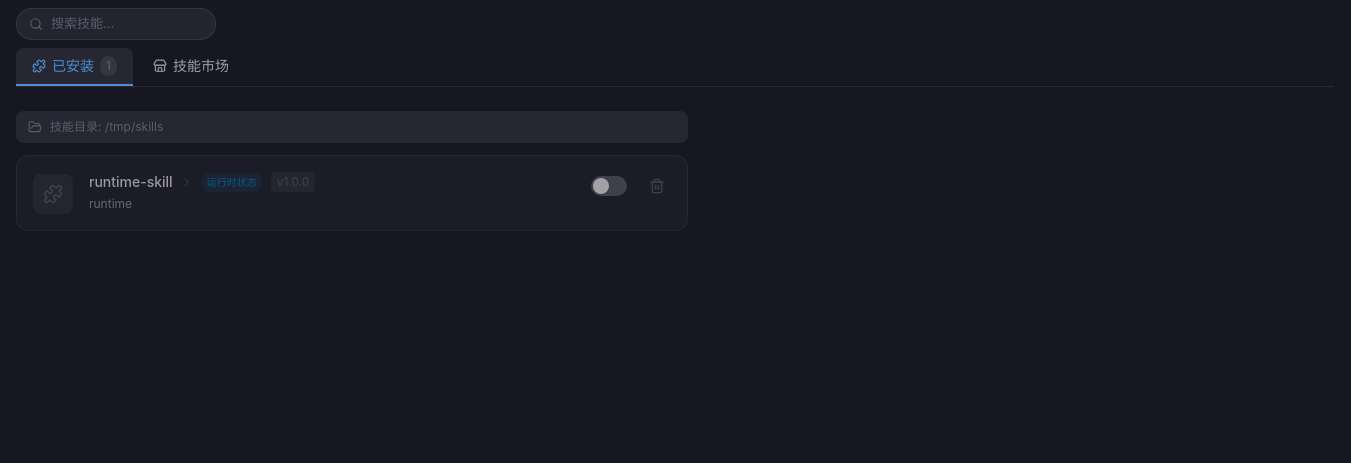
Test case: SkillsView › uses runtime state when backend exposes enabled status
Click the button "runtime-skill" at (131, 182), box x1=89 y1=172 x2=173 y2=192
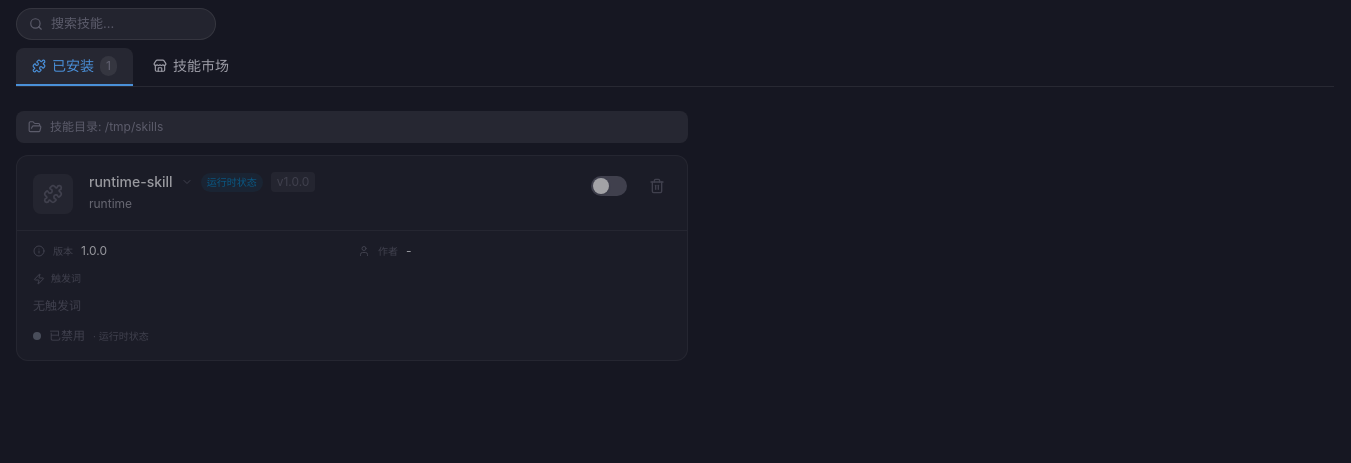
Check: the text "运行时状态" is shown, box x1=201 y1=172 x2=263 y2=192
Click the button named "启用技能" at (609, 186), box x1=591 y1=176 x2=627 y2=196
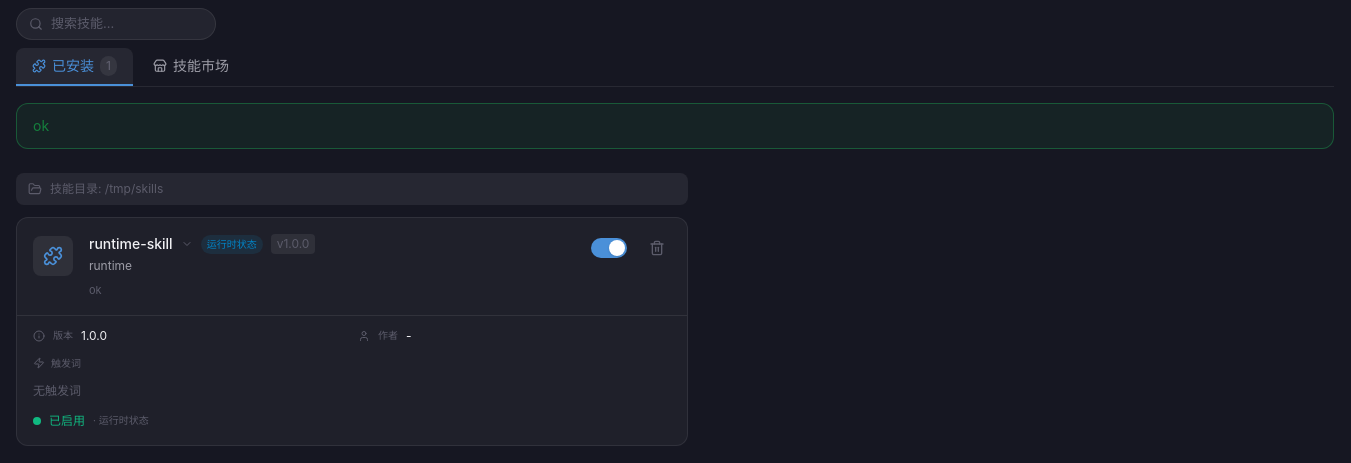
Check: the text "已启用" is shown, box x1=49 y1=412 x2=85 y2=428
